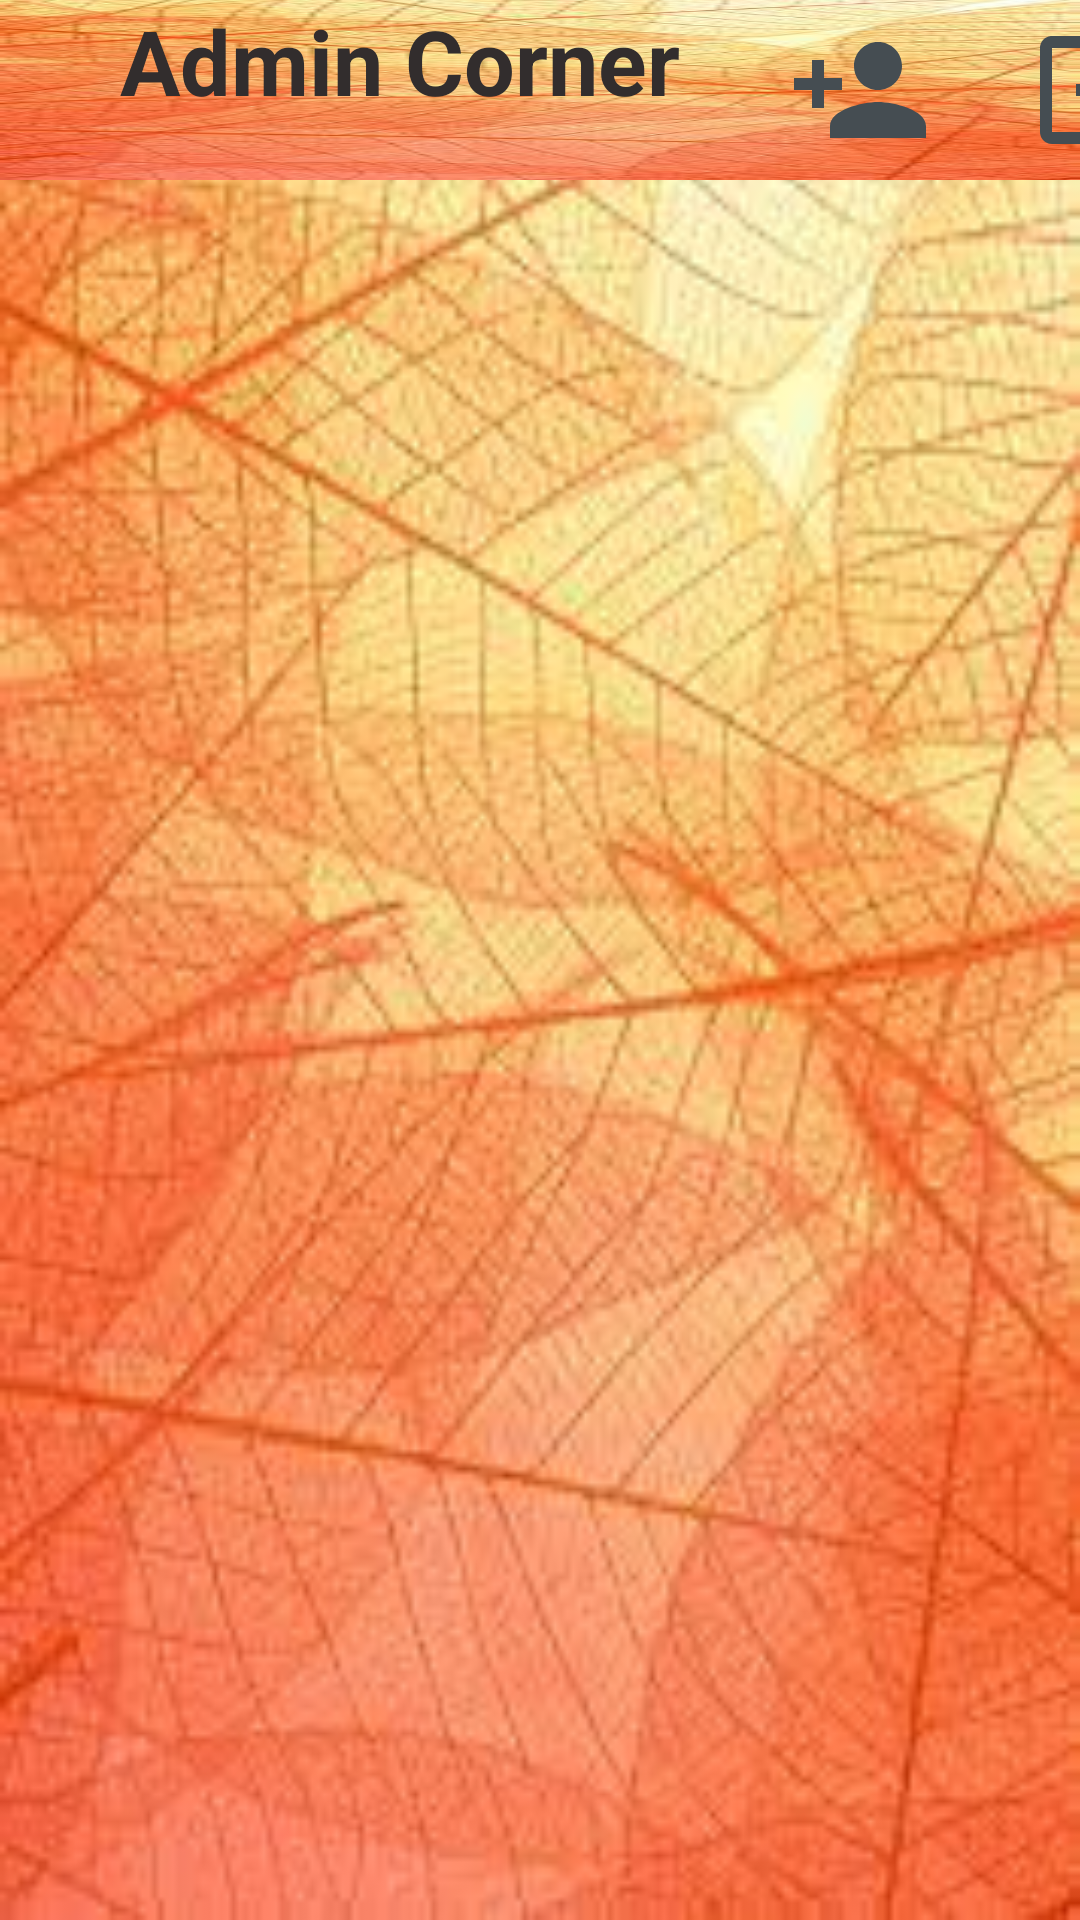

Icon click points for this 1080x1920 phone screenshot, format [x,y]:
addstudent: [860,90]
